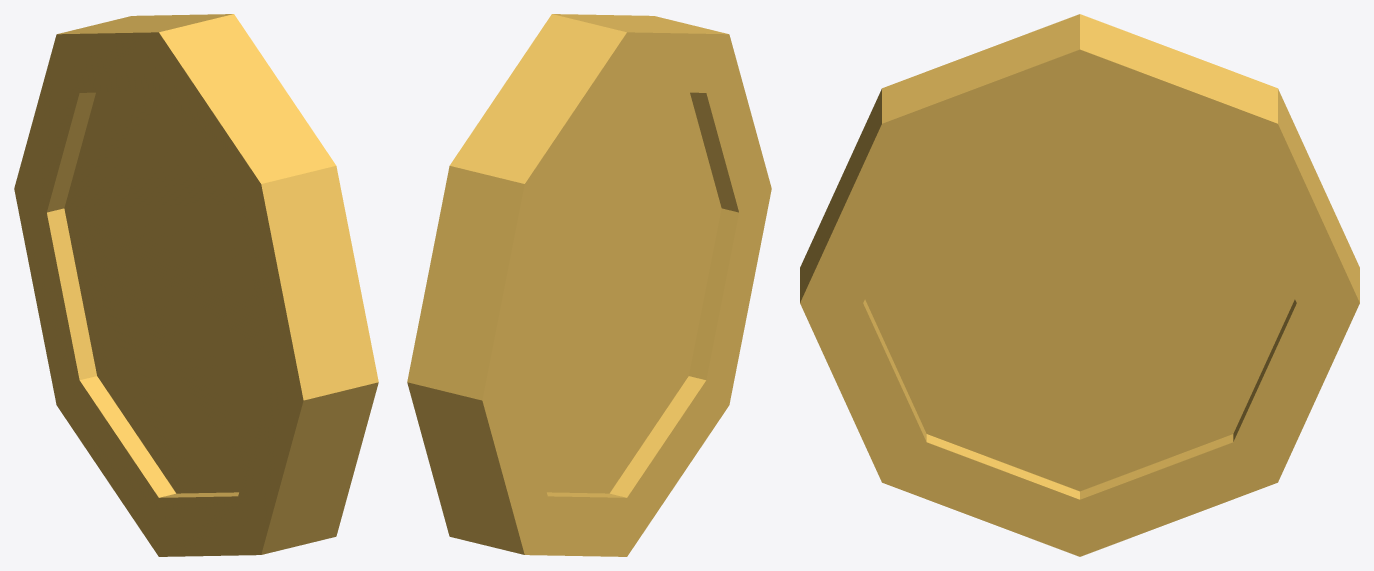
Rendered from Coin.fbx.
3 renders of one model, left to right at view 1: azimuth 30°, elevation 25°; view 2: azimuth 150°, elevation 25°; view 3: azimuth 270°, elevation 25°, orthographic. The views are drawn at different scales.
Visible parts, largest first — view 1: Cylinder; view 2: Cylinder; view 3: Cylinder.
Part boxes in pixels (x1,y1,x2,y2): Cylinder: (14,14,378,556); Cylinder: (407,14,771,556); Cylinder: (800,14,1359,556).
Size of the model in its own units: 30 by 200 by 200.
